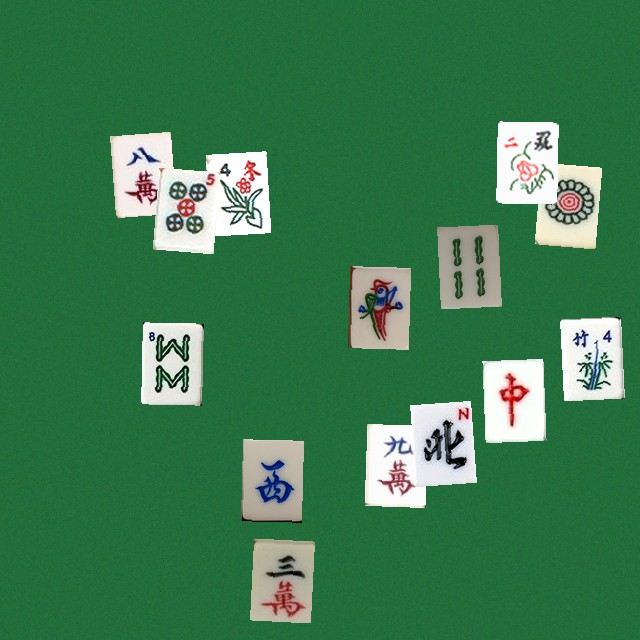tile: (110, 131, 171, 213), (347, 266, 408, 348), (205, 151, 266, 233), (364, 423, 425, 505), (534, 162, 595, 244), (249, 538, 310, 620), (482, 358, 543, 440), (437, 224, 498, 306), (141, 322, 202, 404), (240, 439, 301, 521), (560, 316, 621, 398), (152, 167, 213, 249), (410, 400, 471, 482), (496, 121, 557, 203)
